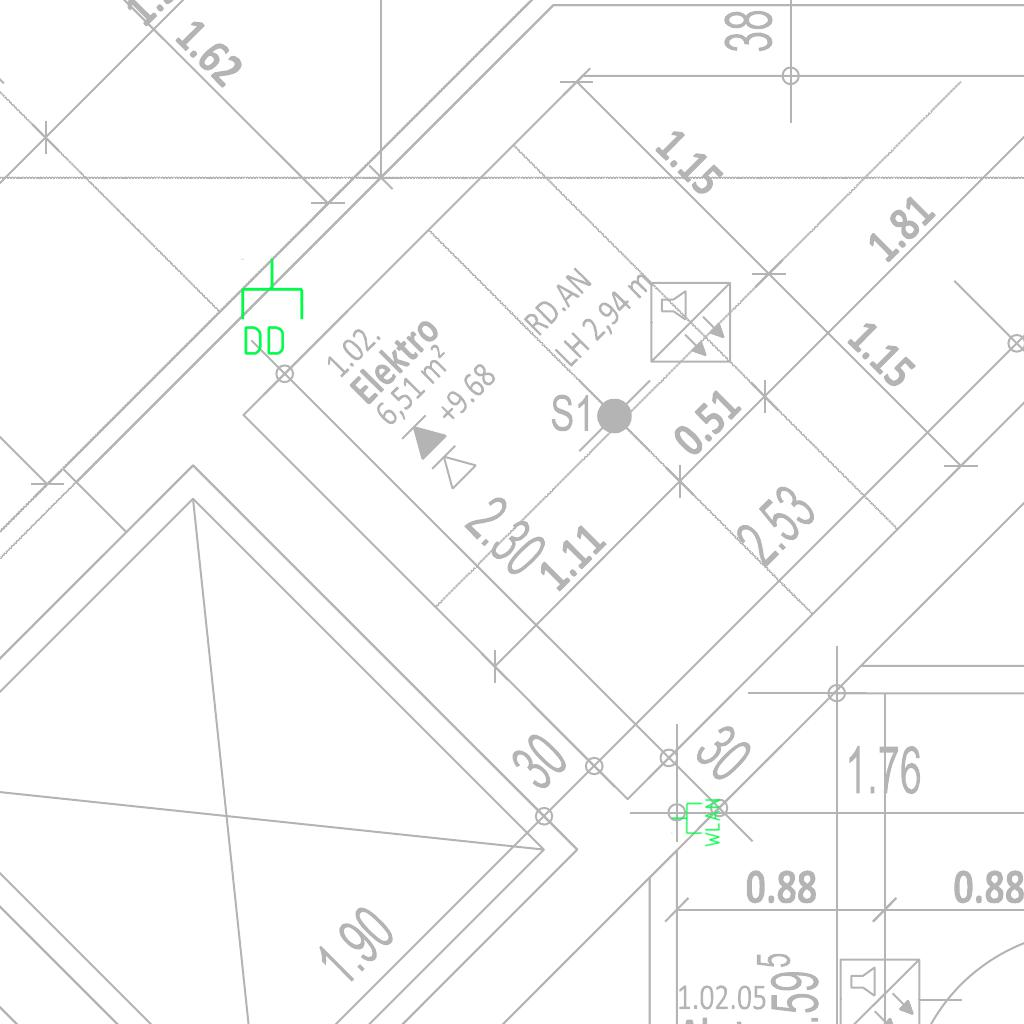Datenanschluss_zweifach: (237, 256, 306, 359)
WLAN: (670, 797, 722, 849)
